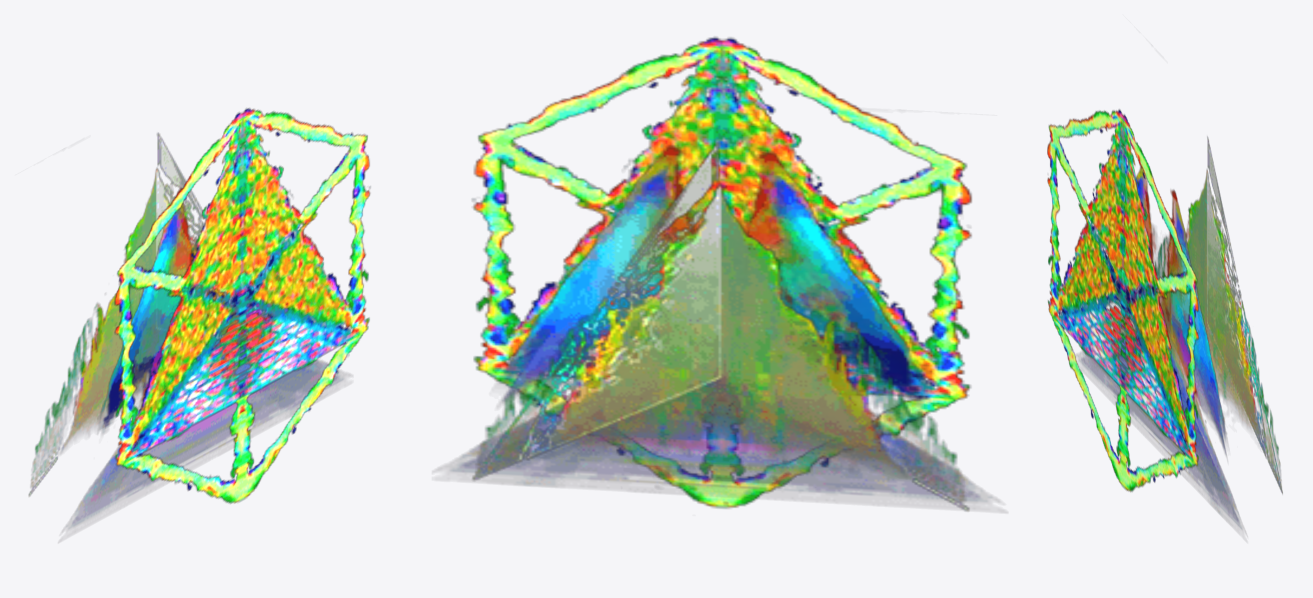
The model's file is meadow_stage_animated.glb.
3 renders of one model, left to right at view 1: azimuth 30°, elevation 25°; view 2: azimuth 150°, elevation 25°; view 3: azimuth 270°, elevation 25°, orthographic. The views are drawn at different scales.
Visible parts, largest first — view 1: Plane.096; view 2: Plane.096; view 3: Plane.096.
Part boxes in pixels (x1,y1,x2,y2): Plane.096: (28, 108, 370, 540); Plane.096: (437, 37, 1004, 511); Plane.096: (1047, 109, 1282, 532).
Bounding box in the file's own units: 2.25 × 2.08 × 1.26.
Materials: 1 (1 with a texture image).
